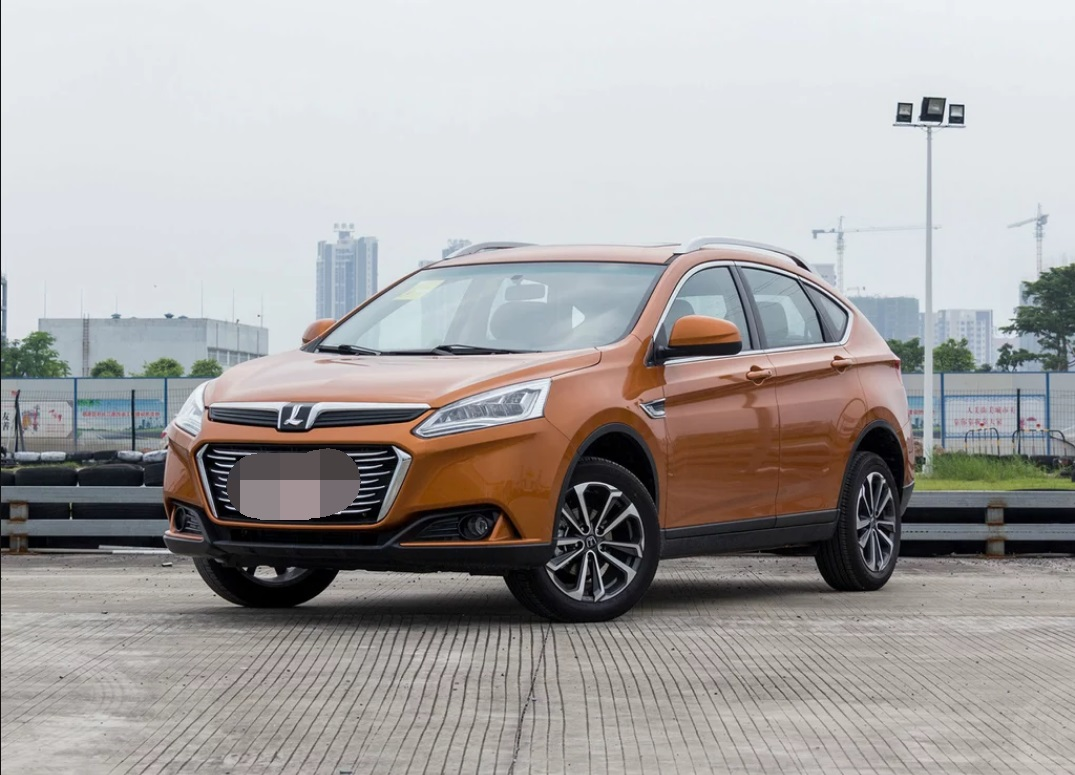SUV: (156, 241, 918, 630)
